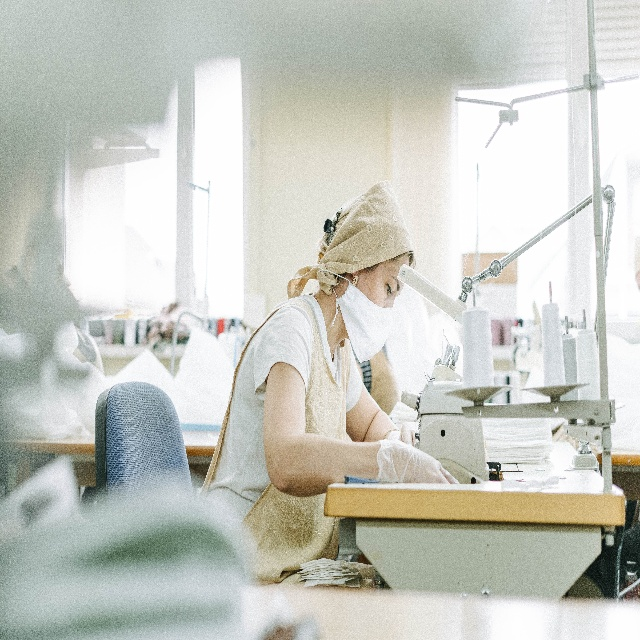Guantes: (384, 437, 459, 486), (397, 420, 420, 448)
Mascara: (316, 268, 396, 364)
